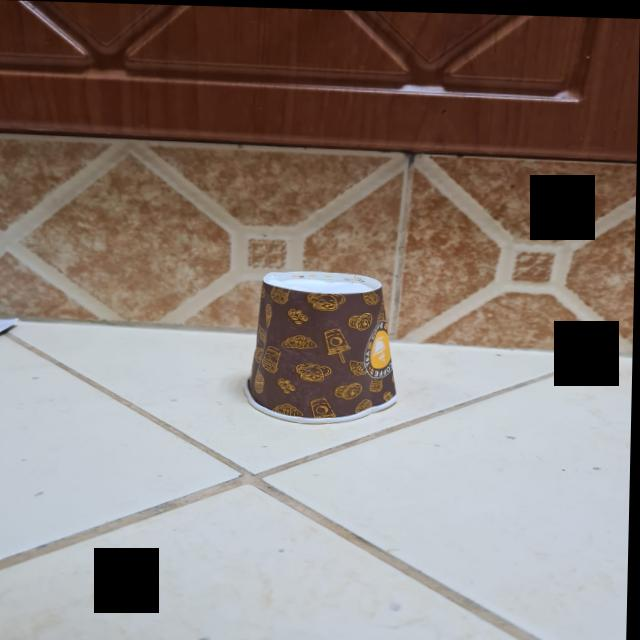cups: (237, 259, 404, 423)
